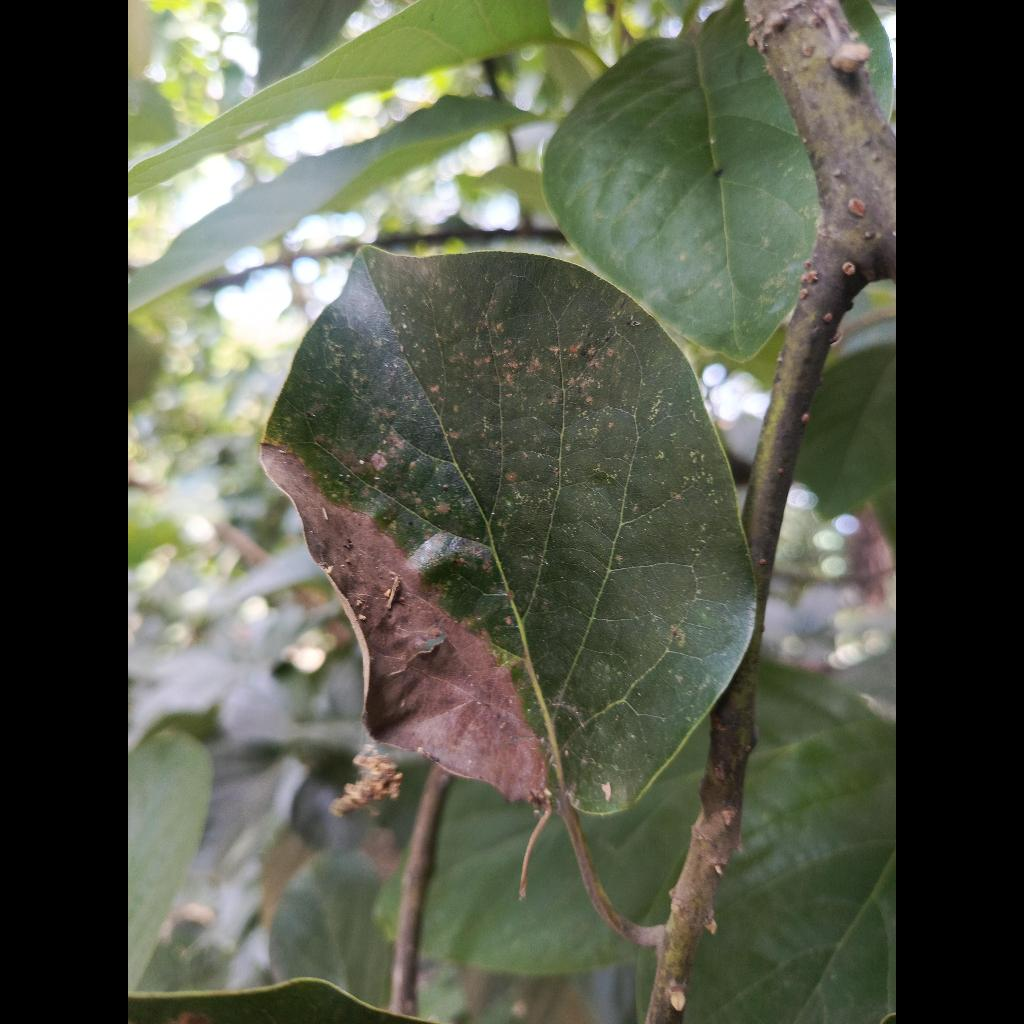Anthracnose: (262, 248, 754, 814)
